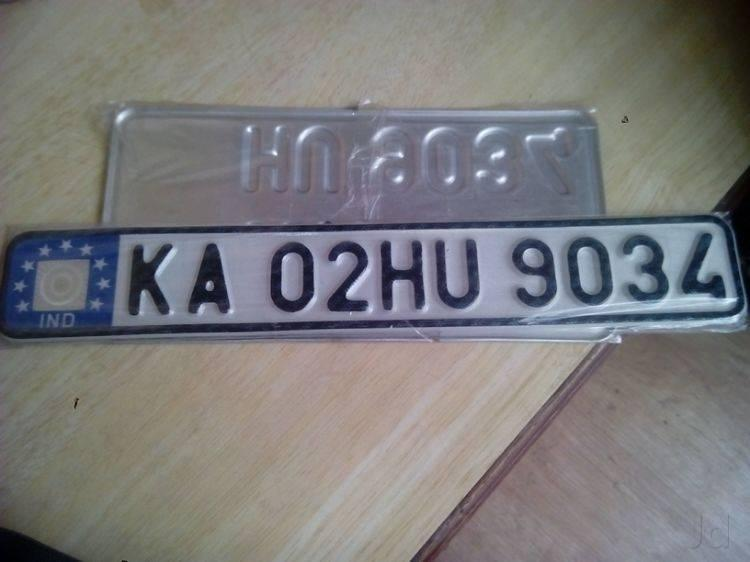inlp: (2, 209, 746, 335)
